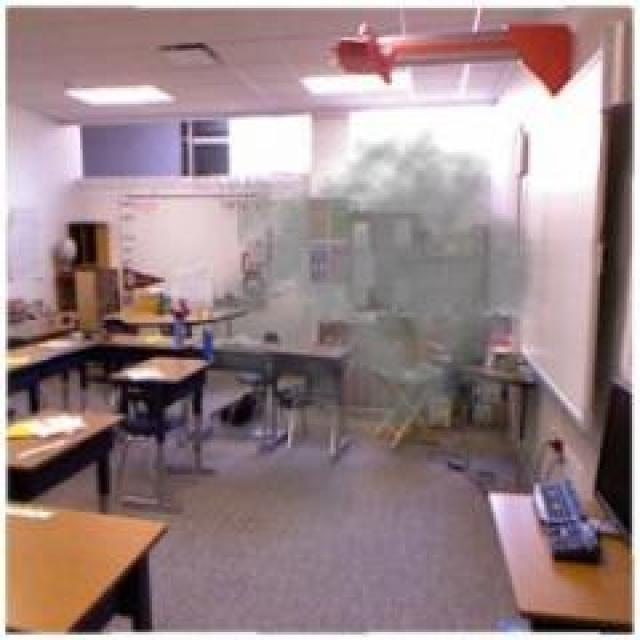smoke: (191, 130, 565, 534)
